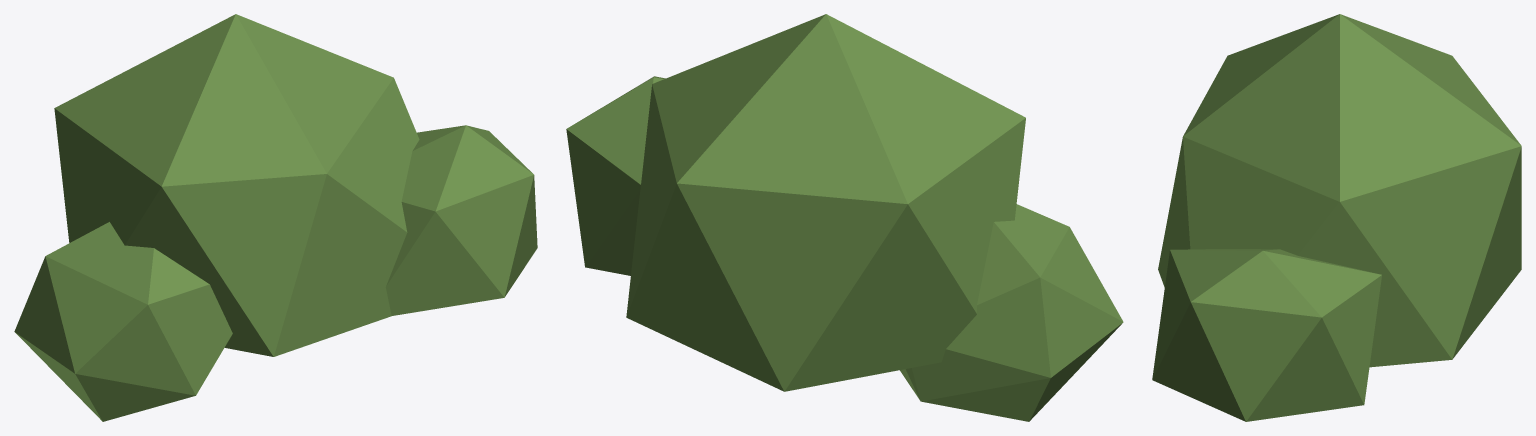
Rendered from Bush1.fbx.
3 renders of one model, left to right at view 1: azimuth 30°, elevation 25°; view 2: azimuth 150°, elevation 25°; view 3: azimuth 270°, elevation 25°, orthographic. The views are drawn at different scales.
Visible parts, largest first — view 1: Icosphere.001; view 2: Icosphere.001; view 3: Icosphere.001.
Part boxes in pixels (x1,y1,x2,y2): Icosphere.001: [14, 14, 537, 421]; Icosphere.001: [566, 14, 1123, 421]; Icosphere.001: [1152, 14, 1521, 421].
Bounding box in the file's own units: 170 × 120 × 110.
